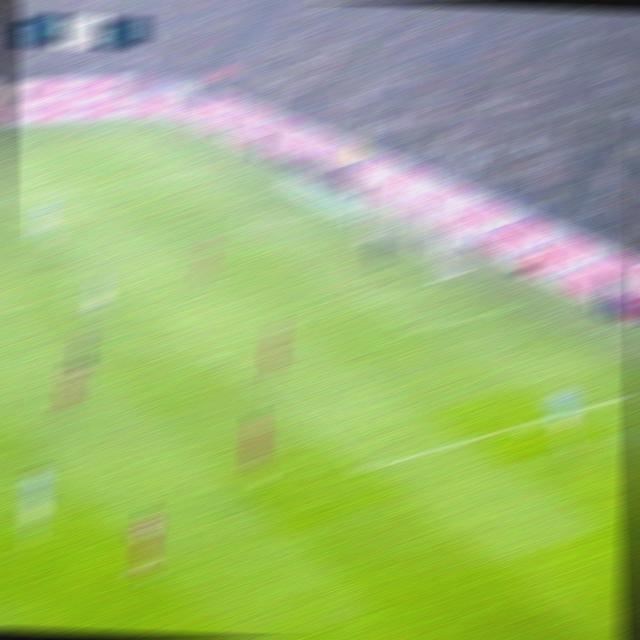bigarea_bottom_inner: (349, 453, 382, 481)
bigarea_top_inner: (0, 190, 13, 207)
bigarea_top_outter: (217, 162, 241, 174)
bottom_arc_area_intersection: (202, 346, 228, 366)
corner: (125, 115, 152, 126)
smallarea_bottom_inner: (403, 314, 435, 340)
smallarea_bottom_outter: (483, 300, 511, 320)
smallarea_top_inner: (229, 218, 256, 236)
smallarea_top_outter: (301, 208, 326, 222)
top_arc_area_intersection: (77, 255, 103, 271)
